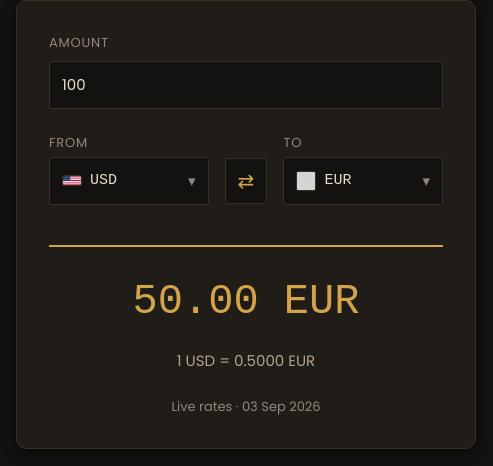
Test: CurrencyConverter › recalculates when the amount changes
This screenshot has width=493, height=466.
Expected: the text "Live rates · 03 Sep 2026" is shown, [171,396,321,416]
Step 1. Replace the text in the number field labelled "Amount" with "40" → (246, 85), box [49,60,443,109]
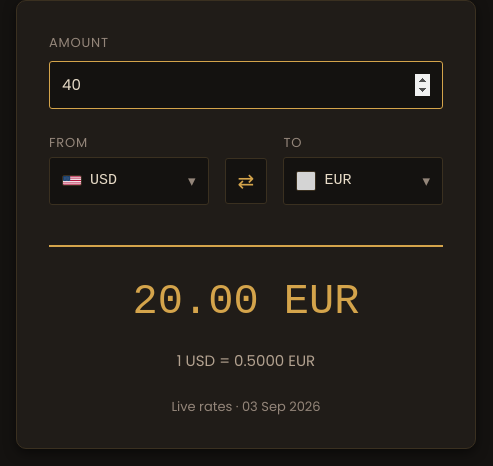
Now the text "20.00 EUR" is shown, box [49,245,443,334]
